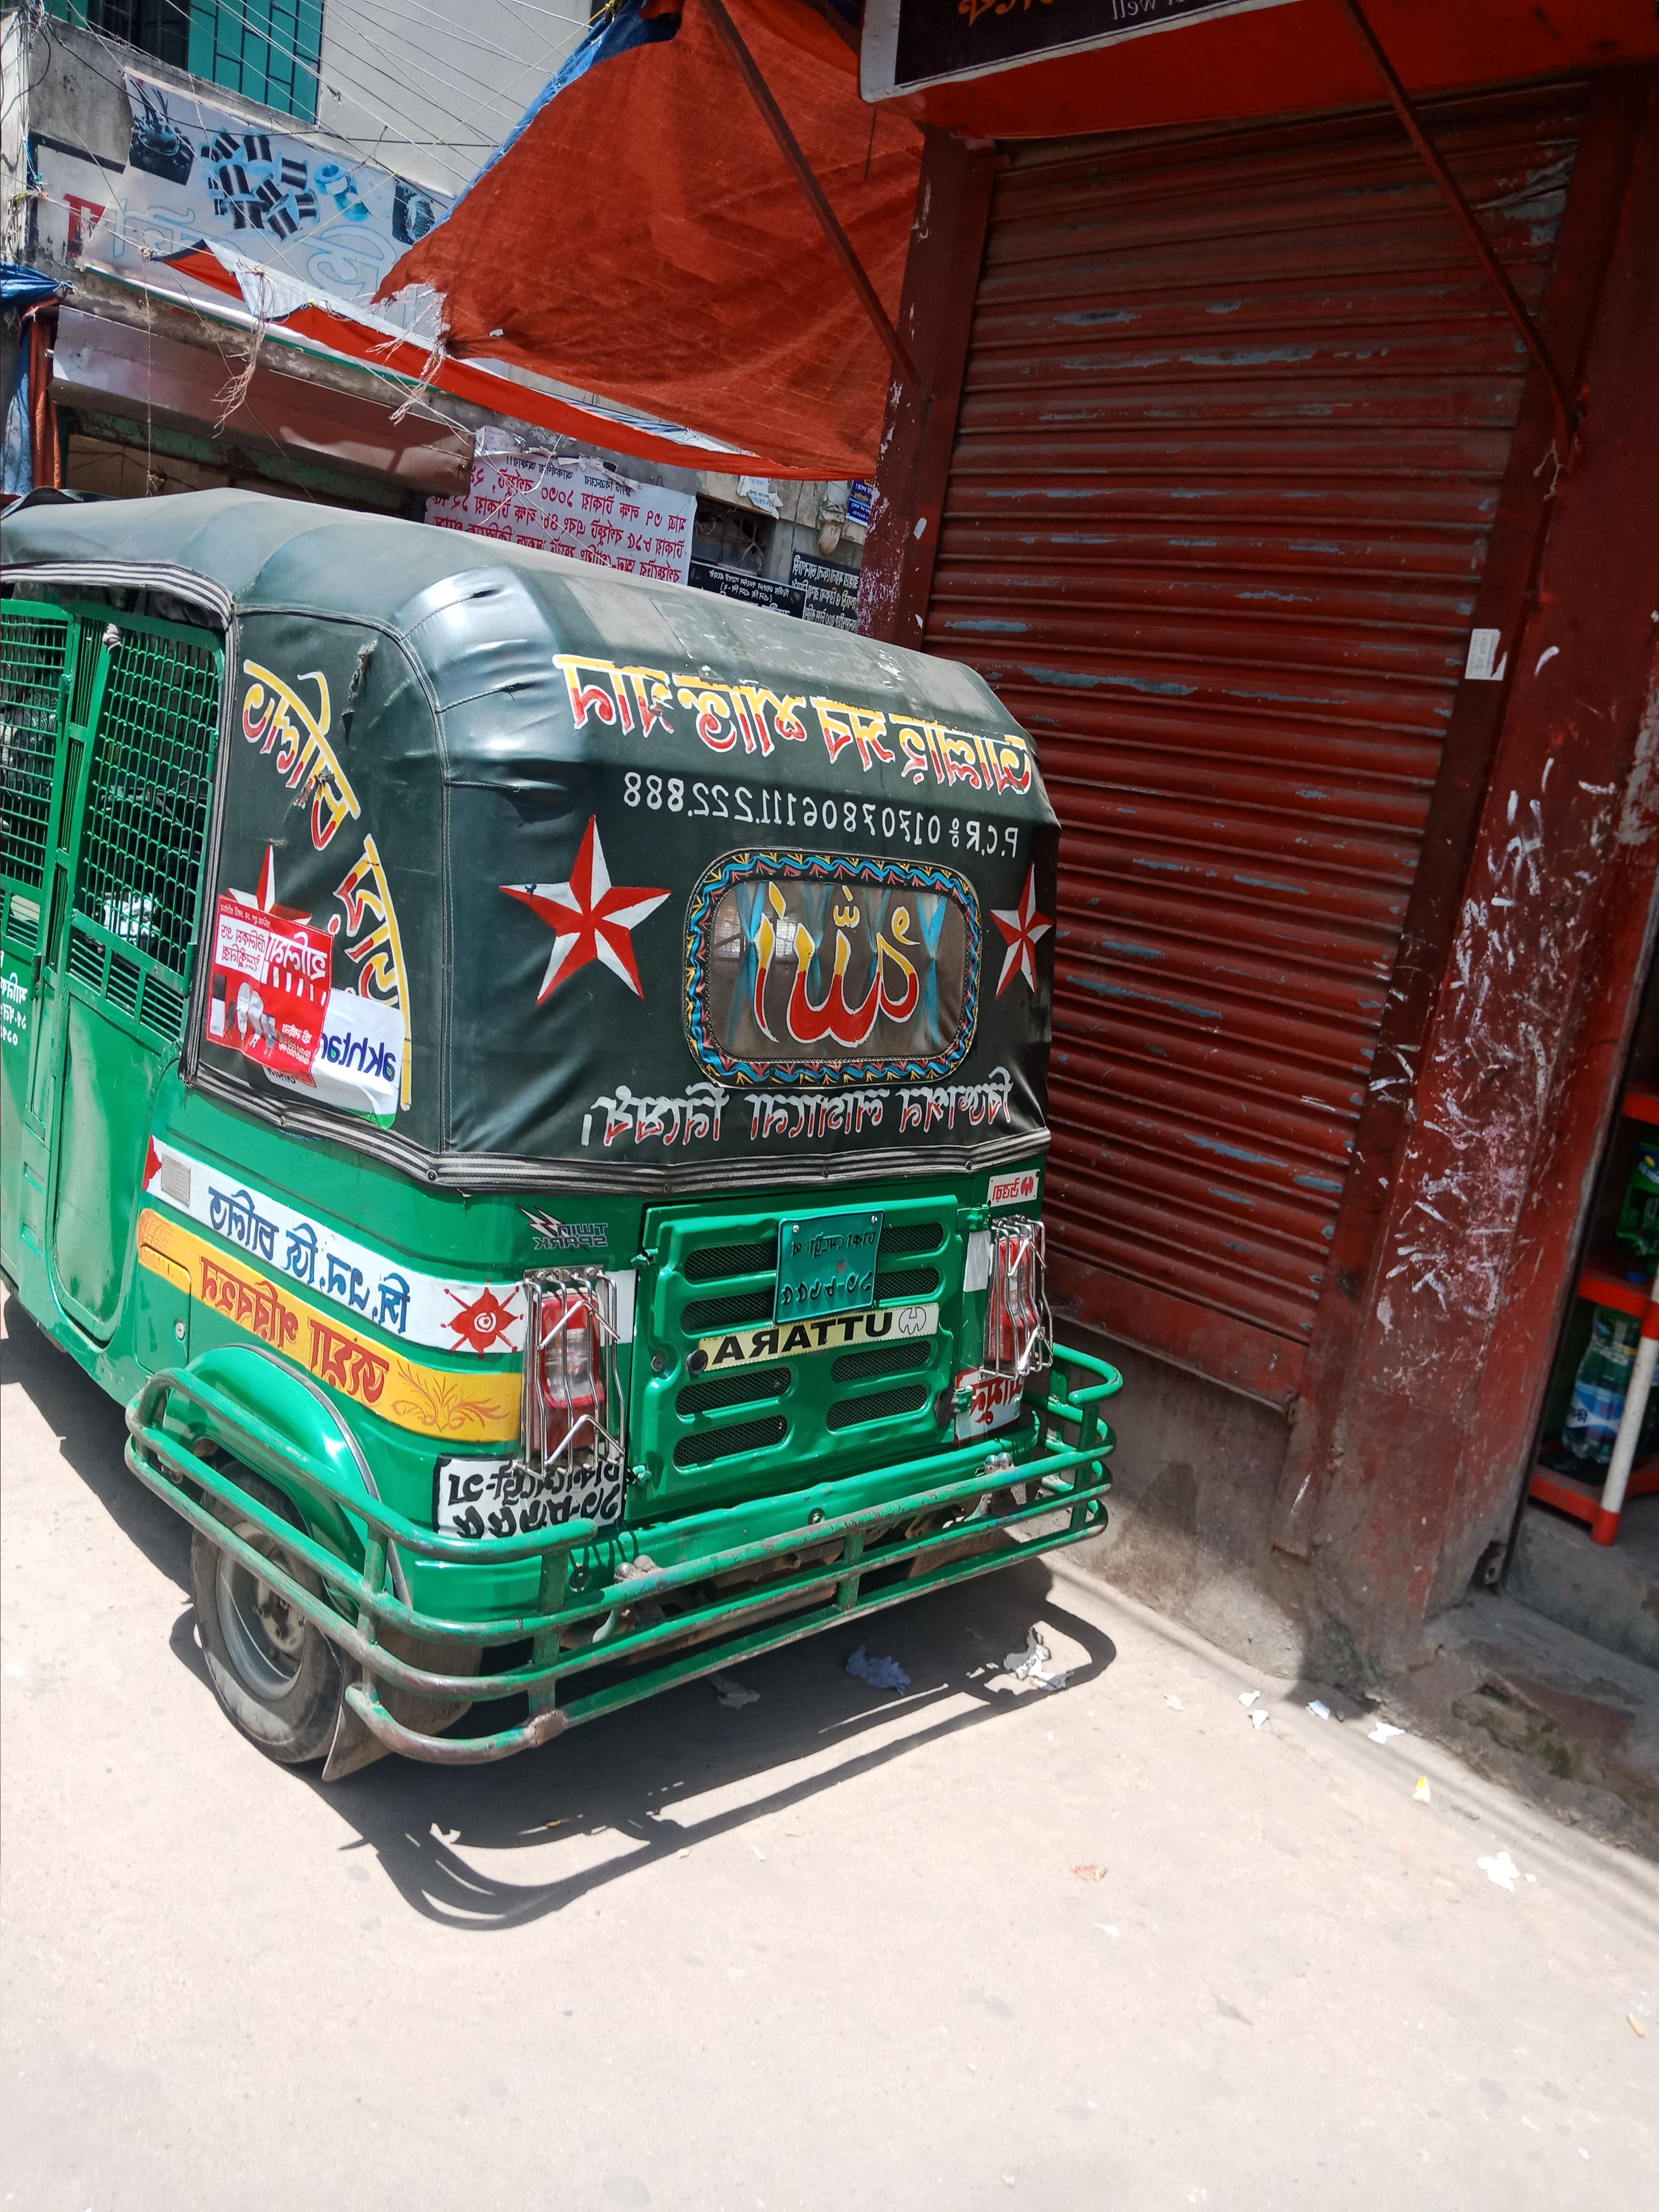cng: (0, 475, 1154, 1820)
